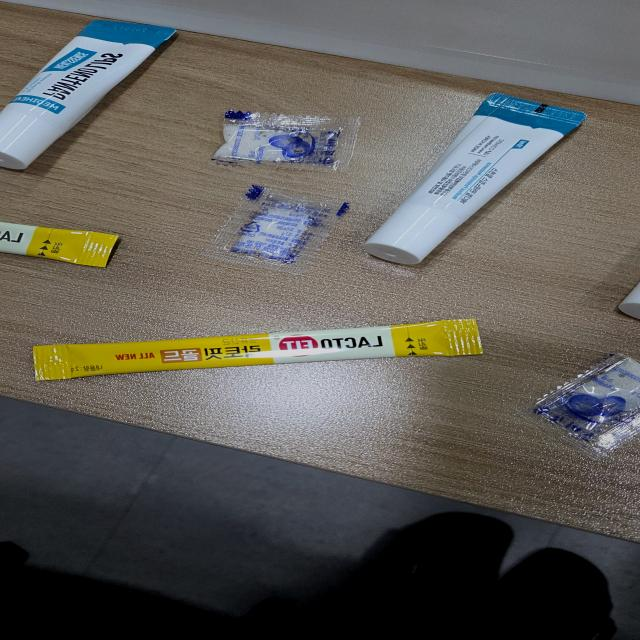lacto: (33, 317, 490, 383), (0, 212, 128, 269)
lib: (356, 92, 592, 270), (0, 18, 179, 172), (614, 275, 640, 323)
salt: (516, 346, 640, 461), (202, 184, 350, 278), (209, 110, 369, 176)
